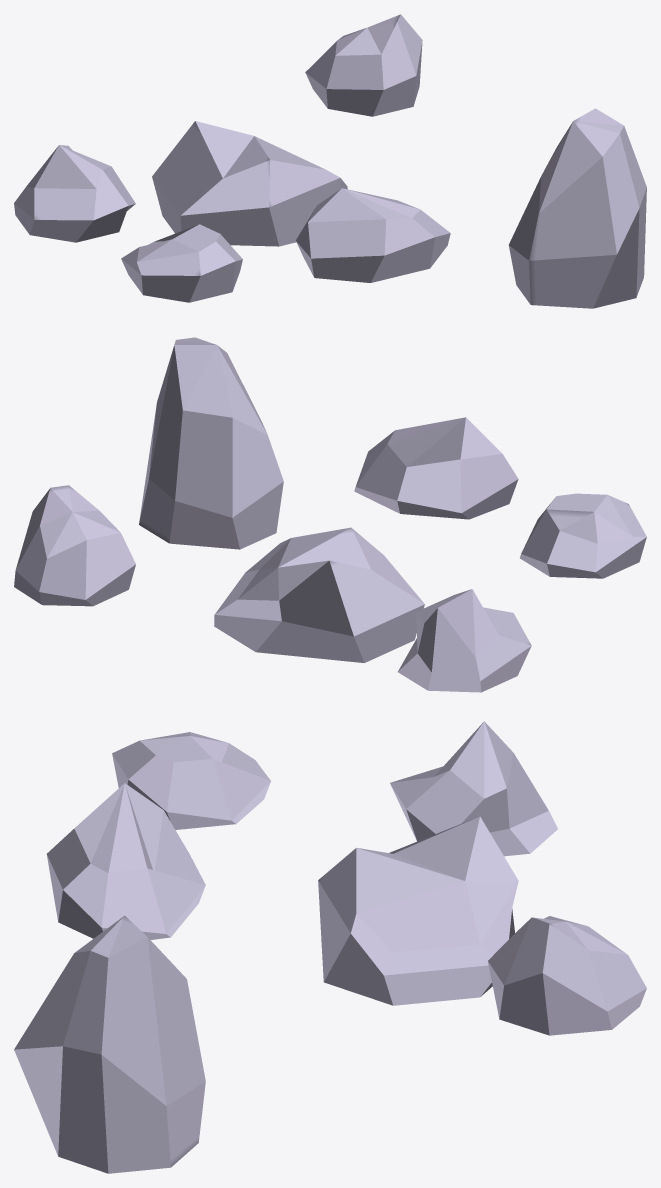
Rendered from Rocks.fbx.
3 views of the same model, one above another, from view 1: azimuth 30°, elevation 25°; view 2: azimuth 150°, elevation 25°; view 3: azimuth 270°, elevation 25° (orthographic). The views are drawn at different scales.
Visible parts, largest first — view 1: sphere_2, sphere_4, sphere, sphere_3, sphere_5, sphere_1; view 2: sphere_2, sphere_4, sphere, sphere_3, sphere_5, sphere_1; view 3: sphere_2, sphere_4, sphere, sphere_3, sphere_5, sphere_1.
Boxes of the visible parts, bbox=[...] form: sphere_2: bbox=[508, 108, 646, 308]; sphere_4: bbox=[152, 121, 347, 246]; sphere: bbox=[296, 188, 450, 282]; sphere_3: bbox=[305, 14, 422, 116]; sphere_5: bbox=[14, 145, 135, 242]; sphere_1: bbox=[121, 224, 242, 302]; sphere_2: bbox=[139, 337, 283, 549]; sphere_4: bbox=[214, 527, 424, 662]; sphere: bbox=[354, 417, 518, 519]; sphere_3: bbox=[14, 485, 135, 606]; sphere_5: bbox=[398, 589, 531, 692]; sphere_1: bbox=[520, 493, 646, 578]; sphere_2: bbox=[14, 915, 205, 1173]; sphere_4: bbox=[318, 816, 518, 1005]; sphere: bbox=[46, 783, 205, 939]; sphere_3: bbox=[488, 916, 646, 1035]; sphere_5: bbox=[390, 721, 557, 856]; sphere_1: bbox=[112, 732, 270, 829].
Size of the model in its own units: 275 by 91.75 by 242.
1 material, 1 textured.
